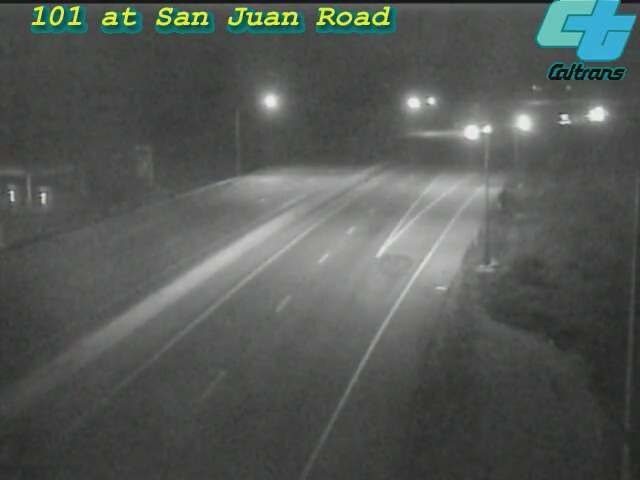vehicle: (540, 94, 590, 144), (445, 107, 495, 157), (499, 98, 549, 148), (461, 104, 511, 154), (572, 89, 622, 139)
